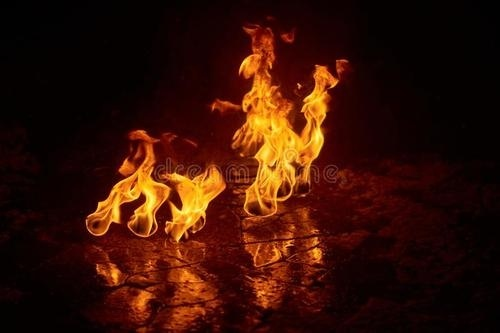fire: (223, 18, 342, 286), (87, 127, 228, 245)
